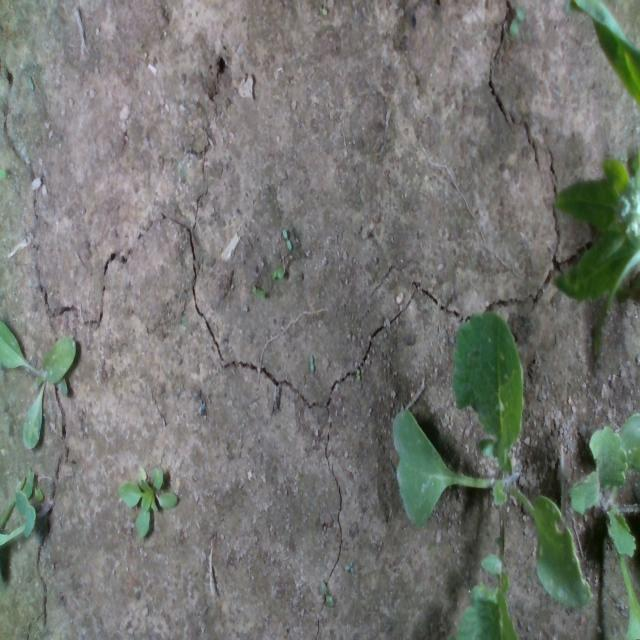weed: (508, 2, 526, 36), (319, 578, 333, 607), (250, 282, 266, 301), (282, 226, 292, 250), (271, 265, 285, 280), (308, 351, 314, 373), (26, 76, 34, 92), (355, 366, 361, 381)
